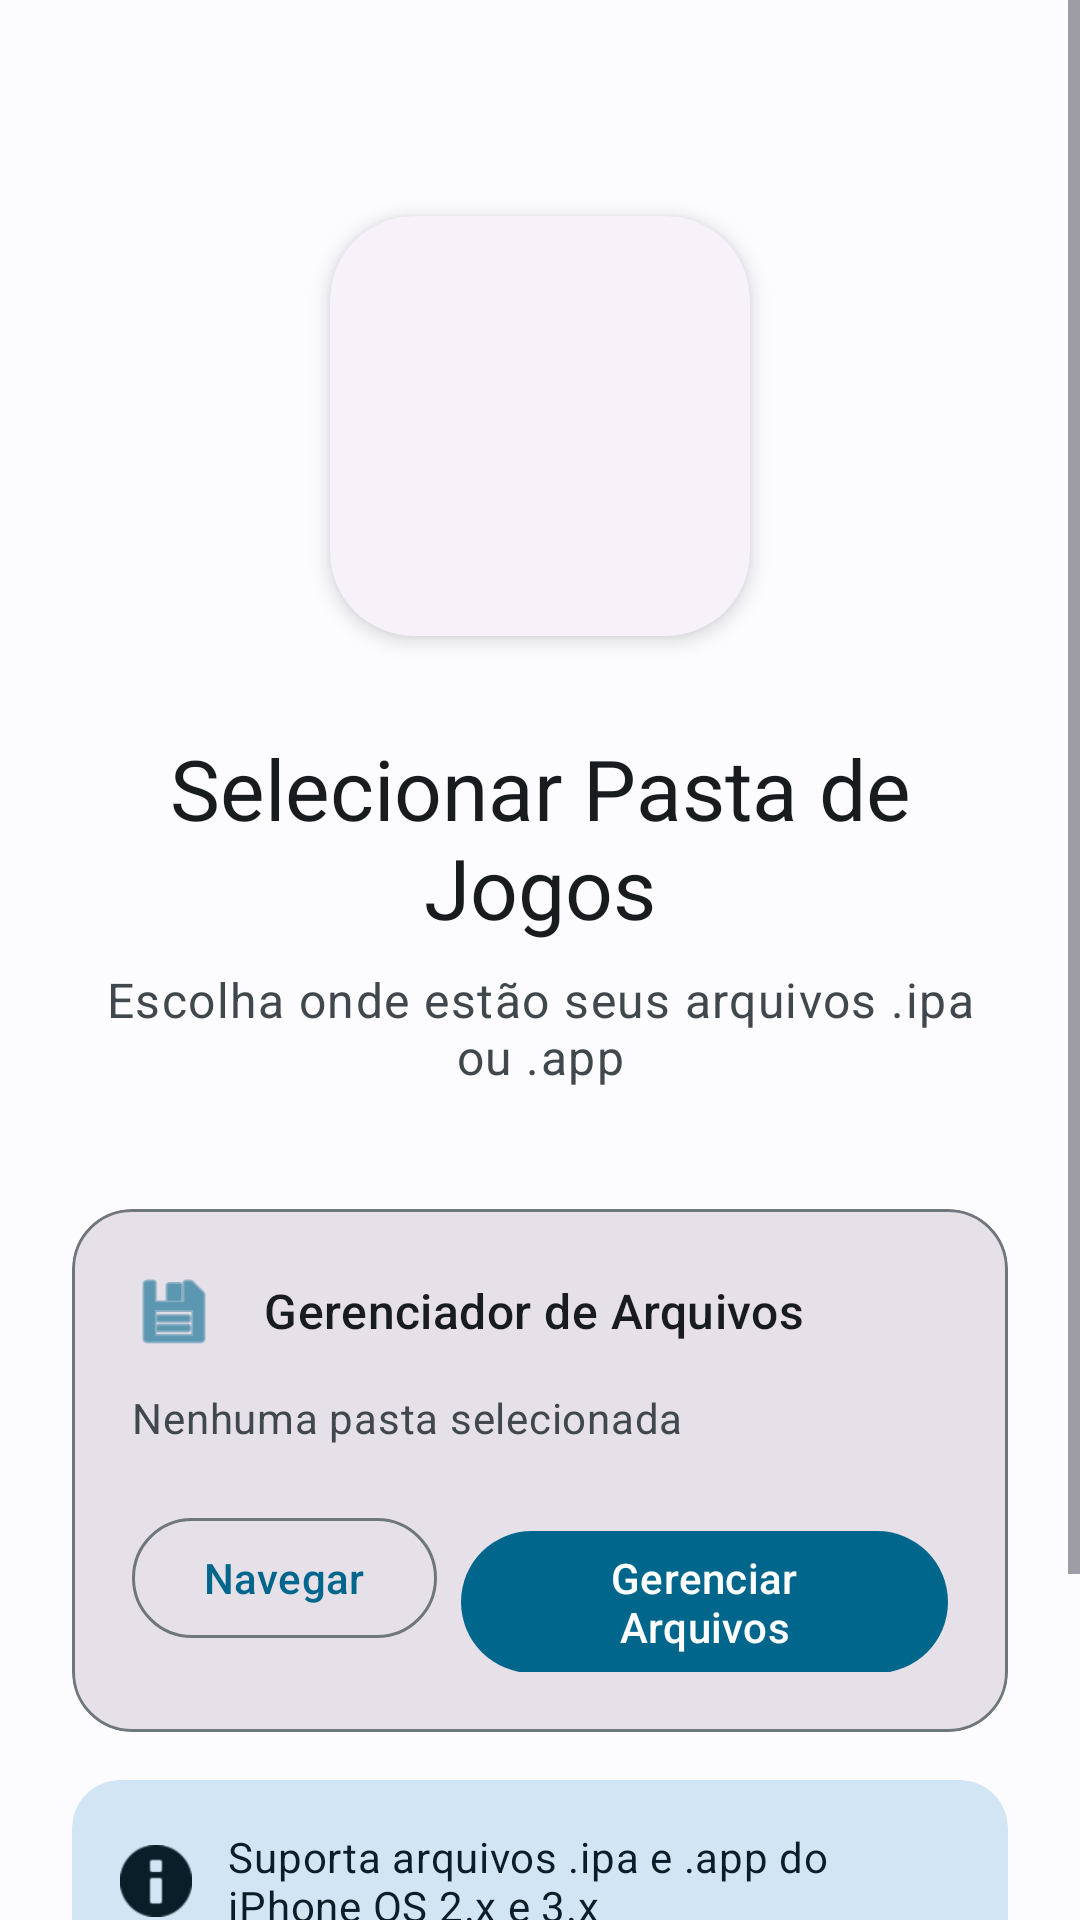

Locate icon controls on the screen. Image size 1080 x 1920, boxes as detection(x1, y1, x2, y2).
Info: detection(120, 1845, 192, 1917)
